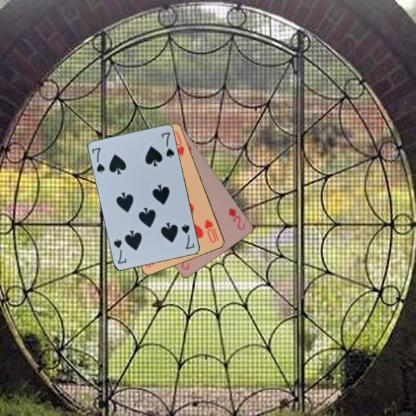10h: (202, 216, 220, 244)
2d: (226, 205, 247, 231)
7s: (179, 221, 196, 250), (90, 145, 106, 175)
